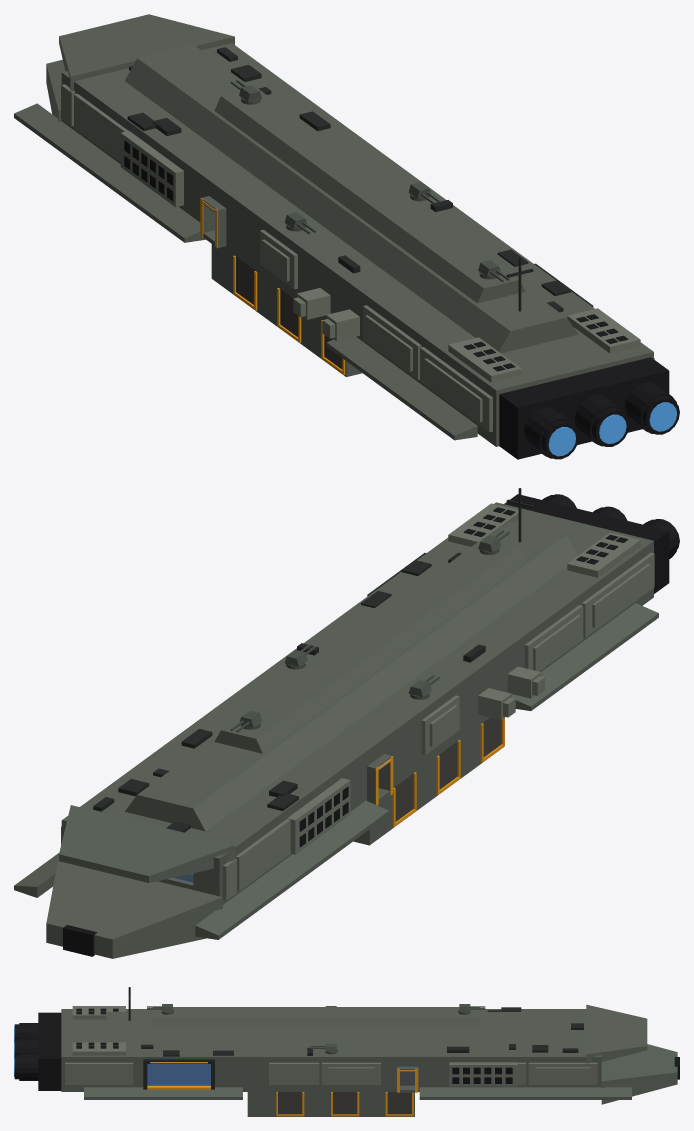
The model's file is ship_SMALL_FRIGATE.obj.
The picture shows the model from 3 angles, top to bottom: view 1: azimuth 30°, elevation 25°; view 2: azimuth 150°, elevation 25°; view 3: azimuth 270°, elevation 25°; orthographic projection. The views are drawn at different scales.
Parts seen in each view (by area): view 1: SMALL_FRIGATE_Hull-col, SMALL_FRIGATE_Armor, SMALL_FRIGATE_Engines, SMALL_FRIGATE_Details, SMALL_FRIGATE_EngineGlow, SMALL_FRIGATE_Hazard, SMALL_FRIGATE_EscapePod_1, SMALL_FRIGATE_EscapePod_2; view 2: SMALL_FRIGATE_Hull-col, SMALL_FRIGATE_Armor, SMALL_FRIGATE_Engines, SMALL_FRIGATE_Details, SMALL_FRIGATE_Hazard, SMALL_FRIGATE_EscapePod_1, SMALL_FRIGATE_EscapePod_2; view 3: SMALL_FRIGATE_Hull-col, SMALL_FRIGATE_Armor, SMALL_FRIGATE_Engines, SMALL_FRIGATE_CargoBayShield, SMALL_FRIGATE_CargoBayDoor-col, SMALL_FRIGATE_Details, SMALL_FRIGATE_Hazard, SMALL_FRIGATE_PodTube_Starboard_1_Hatch-col, SMALL_FRIGATE_PodTube_Starboard_2_Hatch-col, SMALL_FRIGATE_PodTube_Starboard_3_Hatch-col, SMALL_FRIGATE_Trim.
Part boxes in pixels (x1,y1,x2,y2): SMALL_FRIGATE_Hull-col: [14, 14, 653, 446]; SMALL_FRIGATE_Armor: [61, 84, 654, 432]; SMALL_FRIGATE_Engines: [124, 140, 679, 459]; SMALL_FRIGATE_Details: [127, 47, 571, 312]; SMALL_FRIGATE_EngineGlow: [548, 402, 676, 456]; SMALL_FRIGATE_Hazard: [200, 198, 345, 374]; SMALL_FRIGATE_EscapePod_1: [322, 309, 359, 341]; SMALL_FRIGATE_EscapePod_2: [293, 288, 330, 319]; SMALL_FRIGATE_Hull-col: [14, 502, 658, 958]; SMALL_FRIGATE_Armor: [61, 503, 654, 900]; SMALL_FRIGATE_Engines: [63, 494, 679, 956]; SMALL_FRIGATE_Details: [93, 488, 533, 832]; SMALL_FRIGATE_Hazard: [375, 718, 504, 827]; SMALL_FRIGATE_EscapePod_1: [507, 666, 544, 698]; SMALL_FRIGATE_EscapePod_2: [478, 688, 515, 719]; SMALL_FRIGATE_Hull-col: [61, 1004, 677, 1116]; SMALL_FRIGATE_Armor: [65, 1006, 597, 1086]; SMALL_FRIGATE_Engines: [14, 1008, 679, 1090]; SMALL_FRIGATE_CargoBayShield: [147, 1064, 210, 1085]; SMALL_FRIGATE_CargoBayDoor-col: [147, 1064, 210, 1084]; SMALL_FRIGATE_Details: [128, 987, 583, 1056]; SMALL_FRIGATE_Hazard: [147, 1069, 418, 1116]; SMALL_FRIGATE_PodTube_Starboard_1_Hatch-col: [278, 1092, 302, 1114]; SMALL_FRIGATE_PodTube_Starboard_2_Hatch-col: [333, 1092, 357, 1114]; SMALL_FRIGATE_PodTube_Starboard_3_Hatch-col: [387, 1092, 411, 1114]; SMALL_FRIGATE_Trim: [143, 1059, 214, 1089].
Bounding box in the file's own units: 19.8 × 15.3 × 87.5.
